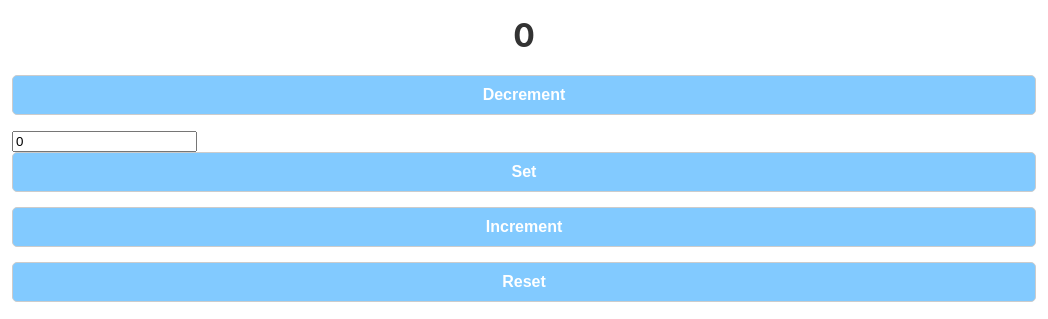
Test case: Counter component › renders a count of -2 after clicking the decrement button twice
The width and height of the screenshot is (1048, 319).
Click the button "Decrement".
click(524, 95)  # box [12,75,1036,115]
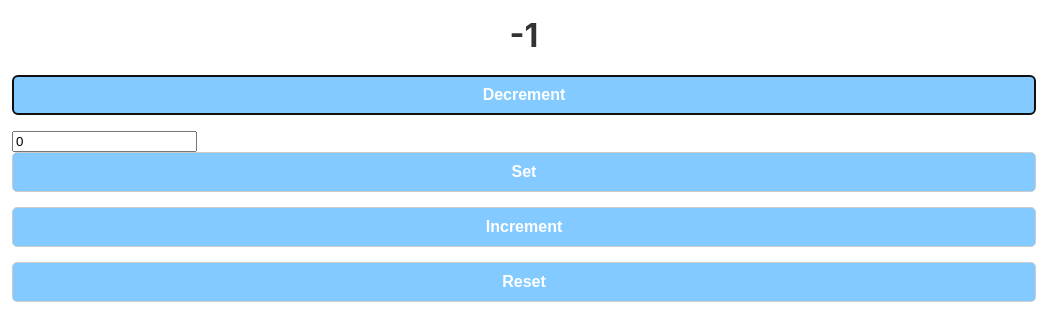
Click the button "Decrement".
click(524, 95)  # box [12,75,1036,115]
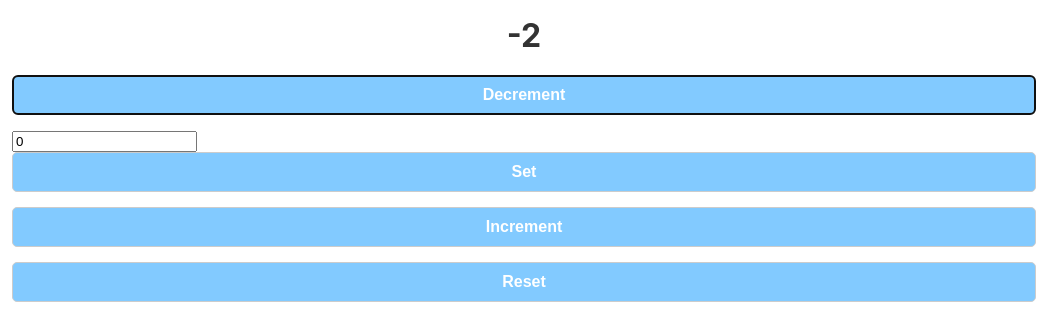
Check: the heading reads "-2", box [507,16,541,55]
